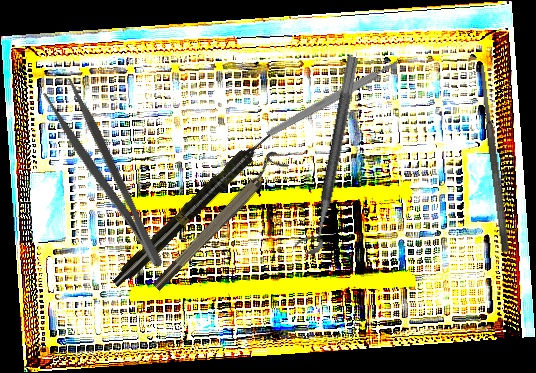Dressing Forceps: (41, 75, 168, 279)
Fixation Ring: (144, 148, 290, 294), (292, 52, 360, 257)
Handpiece: (108, 127, 277, 292)
Scalpel Handle: (265, 58, 400, 139)
Spatula Surgical: (477, 63, 511, 253)
